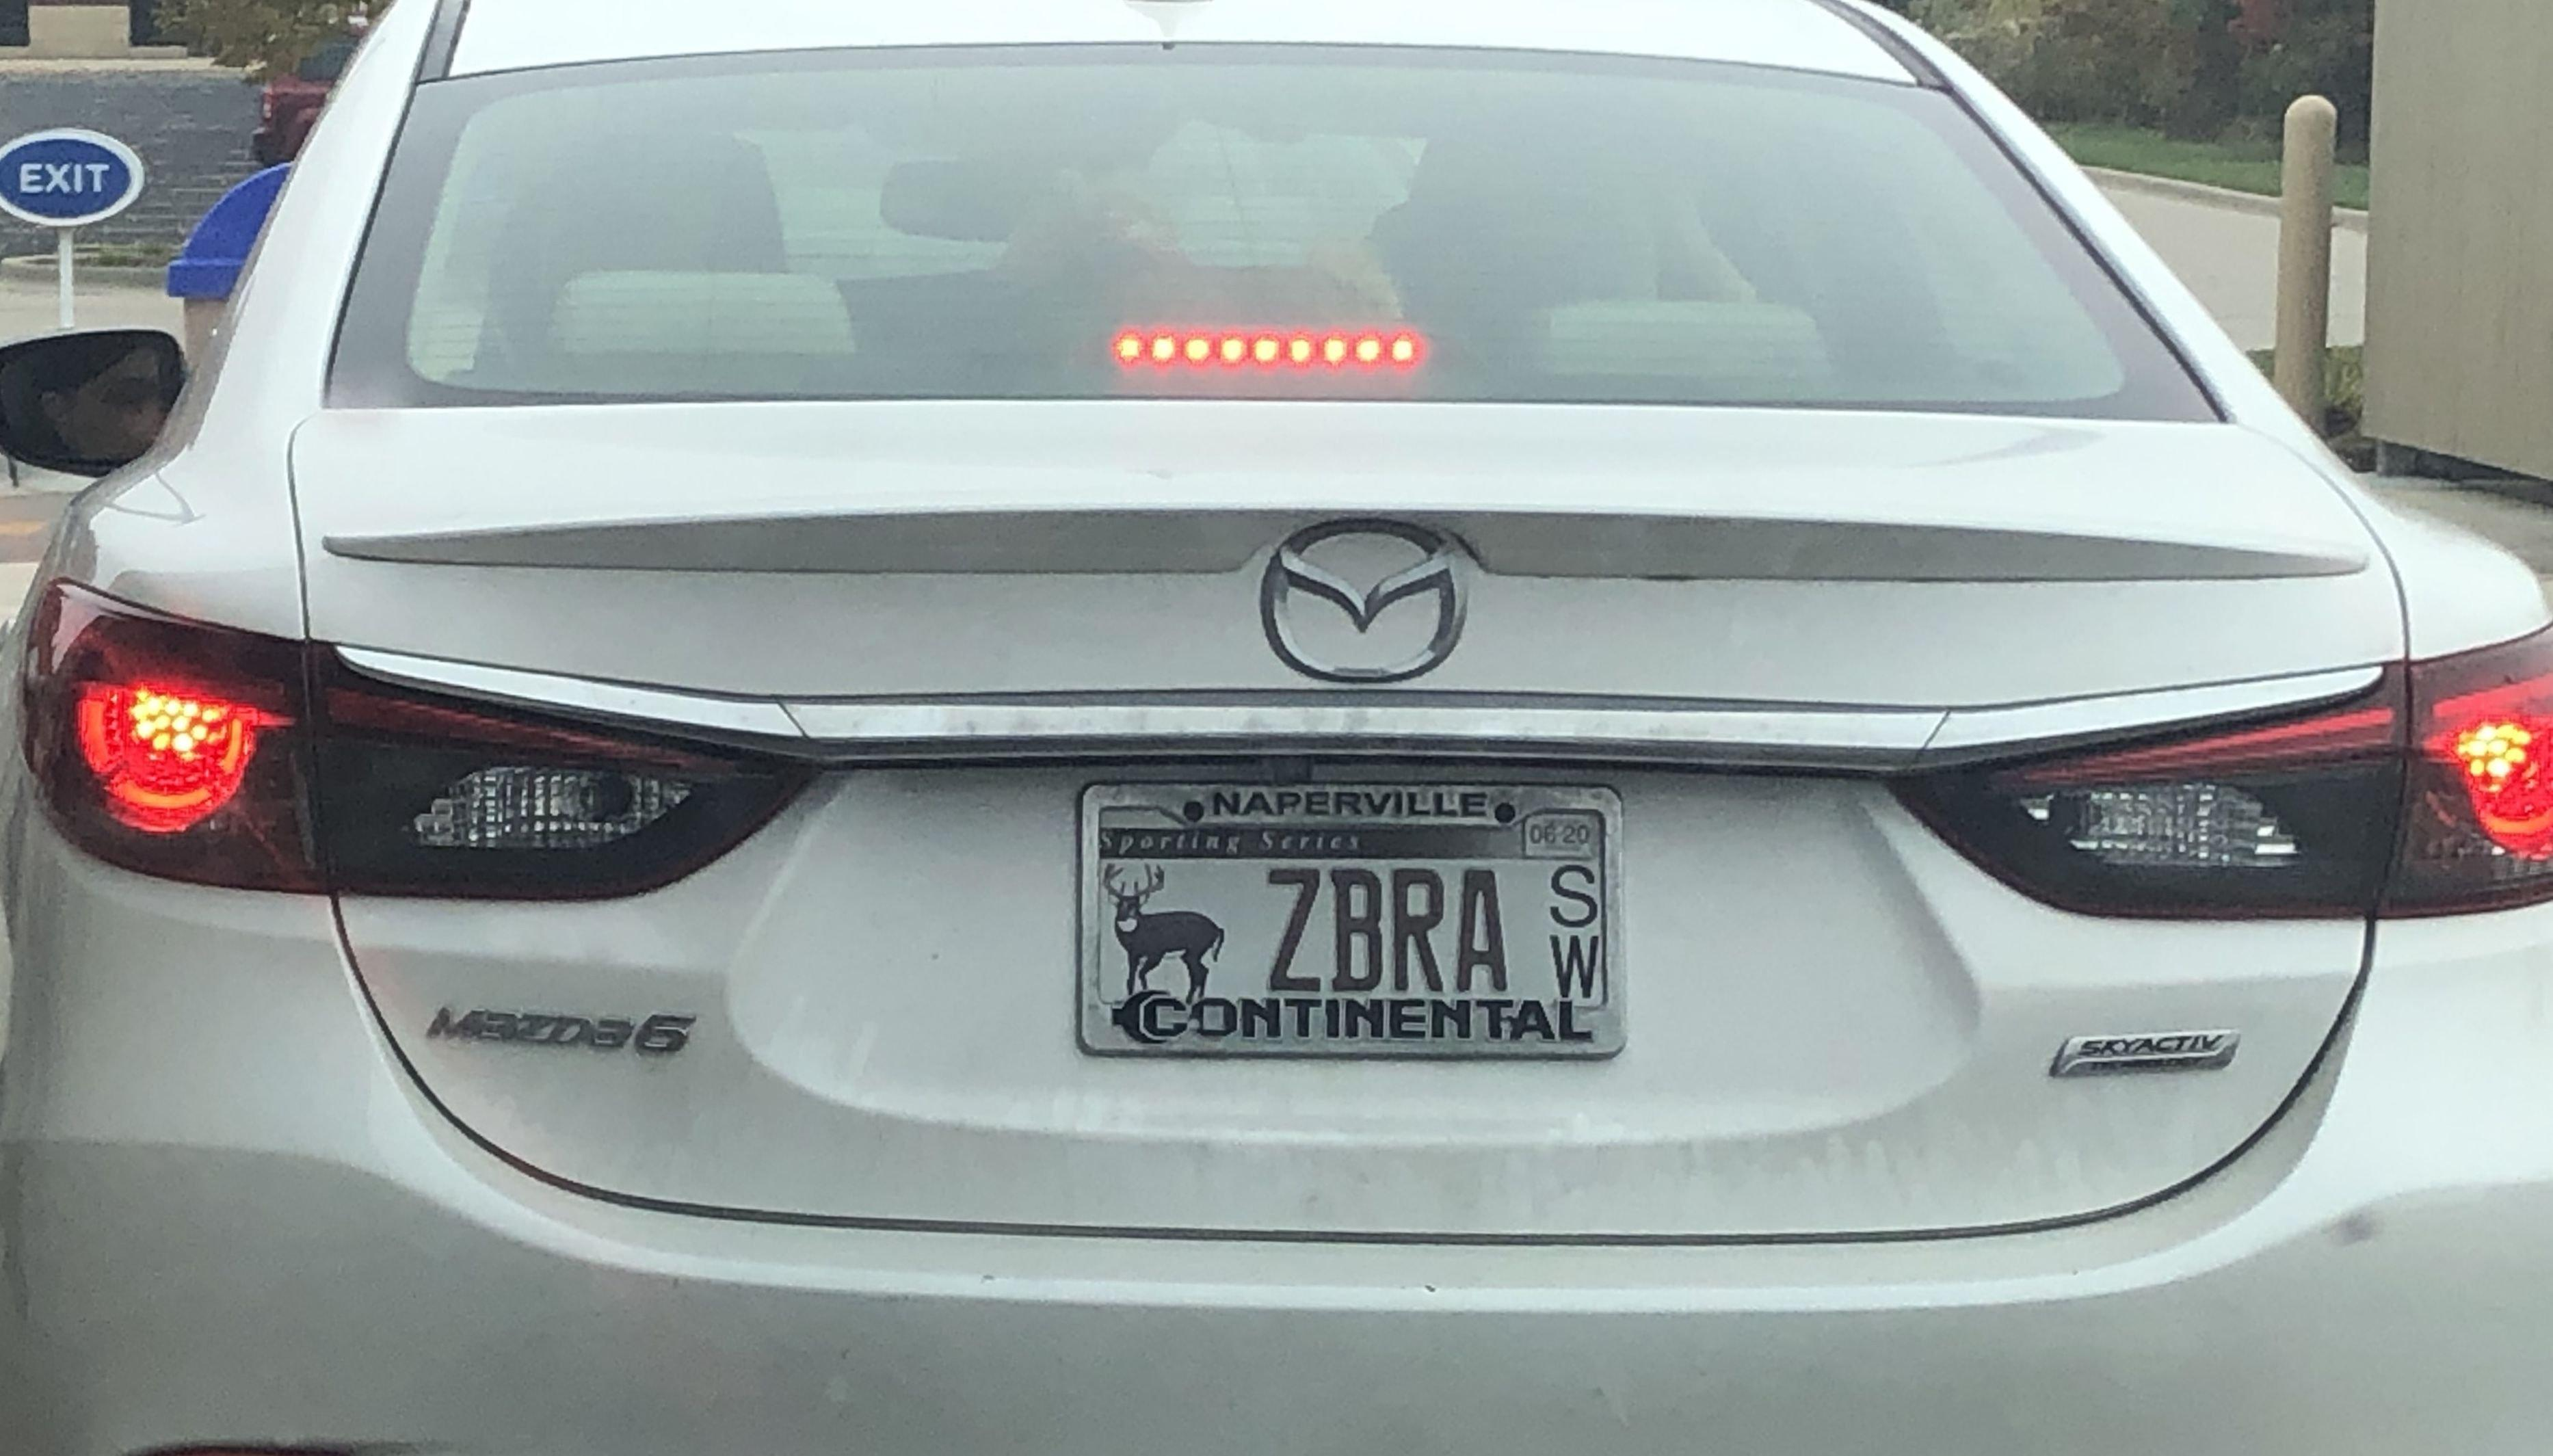Liscence Plate: (1078, 783, 1628, 1051)
